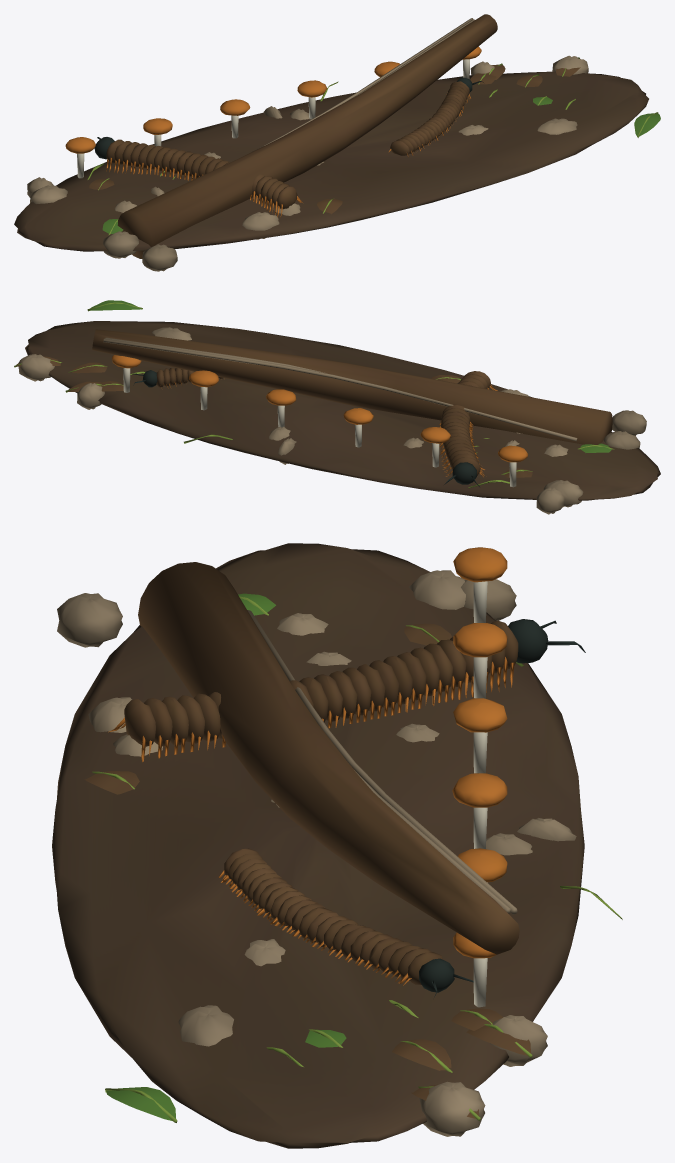
3 views of the same model, one above another, from view 1: azimuth 30°, elevation 25°; view 2: azimuth 150°, elevation 25°; view 3: azimuth 270°, elevation 25° (orthographic). The views are drawn at different scales.
Parts seen in each view (by area): view 1: B08_SPEC_Bark_export; view 2: B08_SPEC_Bark_export; view 3: B08_SPEC_Bark_export.
Part boxes in pixels (box(x1,y1,x2,y2)): B08_SPEC_Bark_export: box(14, 14, 660, 271); B08_SPEC_Bark_export: box(14, 300, 660, 514); B08_SPEC_Bark_export: box(52, 543, 622, 1148).
Bounding box in the file's own units: 2.63 × 0.3323 × 1.06.
